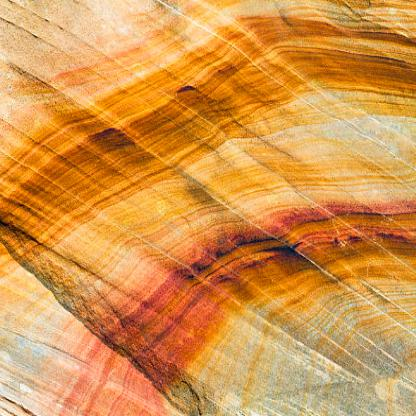Sedimentary_Sandstone: (0, 4, 415, 415)
